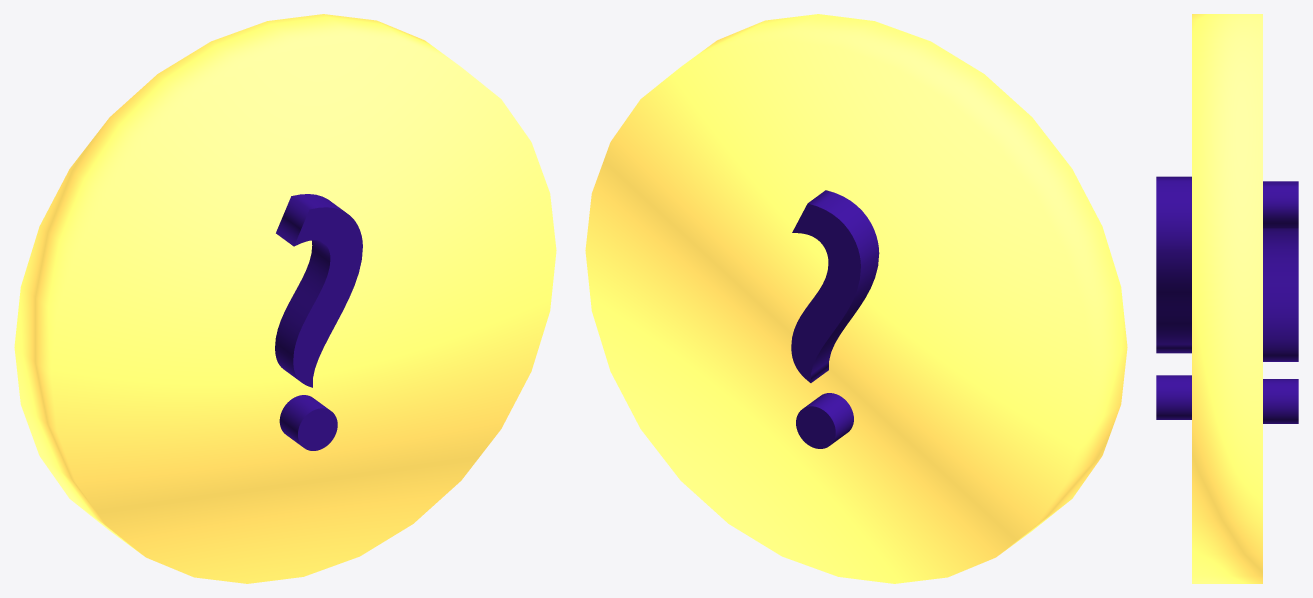
Rendered from marker.glb.
3 views of the same model, side by side, from view 1: azimuth 30°, elevation 25°; view 2: azimuth 150°, elevation 25°; view 3: azimuth 270°, elevation 25° (orthographic). The views are drawn at different scales.
Parts seen in each view (by area): view 1: Coin, Q; view 2: Coin, Q2; view 3: Coin, Q2, Q.
Part boxes in pixels (<box>): Coin: <box>14,14,556,583</box>; Q: <box>275,194,362,450</box>; Coin: <box>585,14,1127,583</box>; Q2: <box>791,190,879,448</box>; Coin: <box>1192,14,1262,583</box>; Q2: <box>1263,181,1298,423</box>; Q: <box>1156,176,1191,419</box>.
Size of the model in its own units: 0.64 by 0.64 by 0.16.
